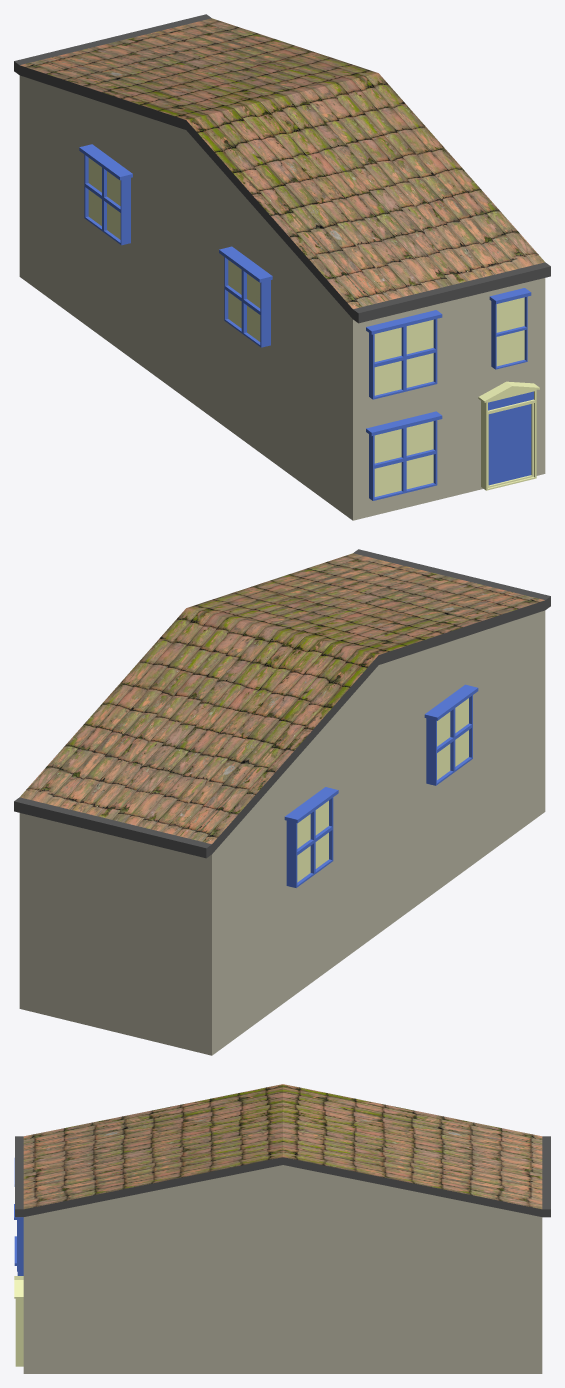
The model's file is house-flat.fbx.
The picture shows the model from 3 angles, top to bottom: view 1: azimuth 30°, elevation 25°; view 2: azimuth 150°, elevation 25°; view 3: azimuth 270°, elevation 25°; orthographic projection. The views are drawn at different scales.
Visible parts, largest first — view 1: house, door, window dual .001, window dual, window dual .002, window dual .003, window single; view 2: house, window dual .003, window dual .002; view 3: house, door, window single.
Part boxes in pixels (x1,y1,x2,y2): house: (14, 14, 550, 520); door: (478, 381, 539, 490); window dual .001: (366, 411, 442, 500); window dual: (366, 310, 442, 399); window dual .002: (219, 246, 272, 347); window dual .003: (79, 144, 132, 245); window single: (489, 288, 531, 369); house: (14, 549, 550, 1055); window dual .003: (284, 787, 338, 887); window dual .002: (424, 684, 478, 785); house: (15, 1084, 550, 1373); door: (14, 1276, 23, 1366); window single: (14, 1204, 23, 1271).
Bounding box in the file's own units: 641 × 830 × 1864.
